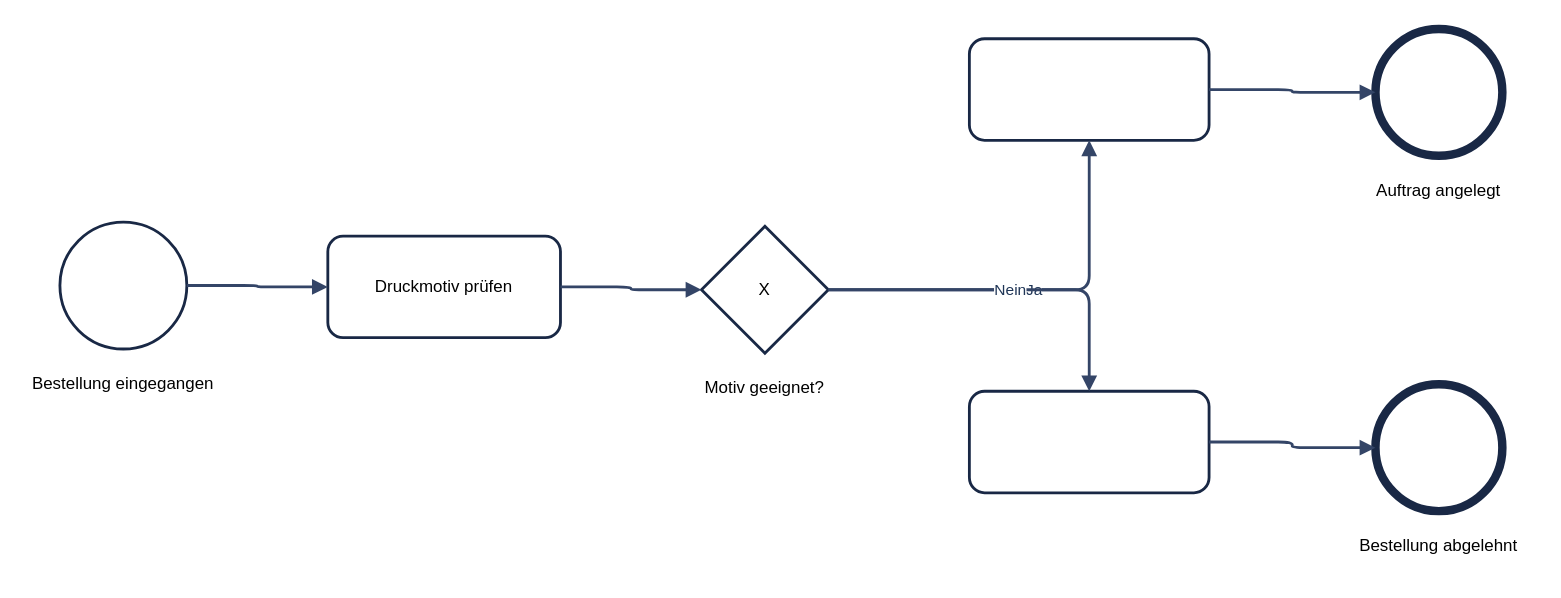
Some shapes in this 1561 by 598 pixel diagram are drawn without their labels. Each missing label, with the centre of its shape:
"Ablehnung versenden" goes at point 1088,441.
"Druckauftrag anlegen" goes at point 1088,89.
